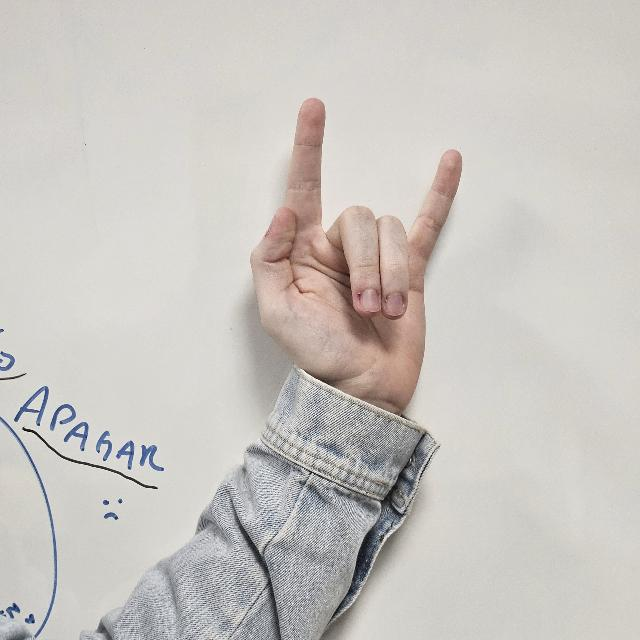L: (248, 96, 462, 402)
